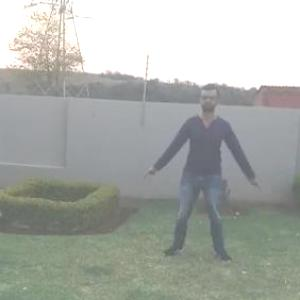land: (148, 76, 272, 284)
